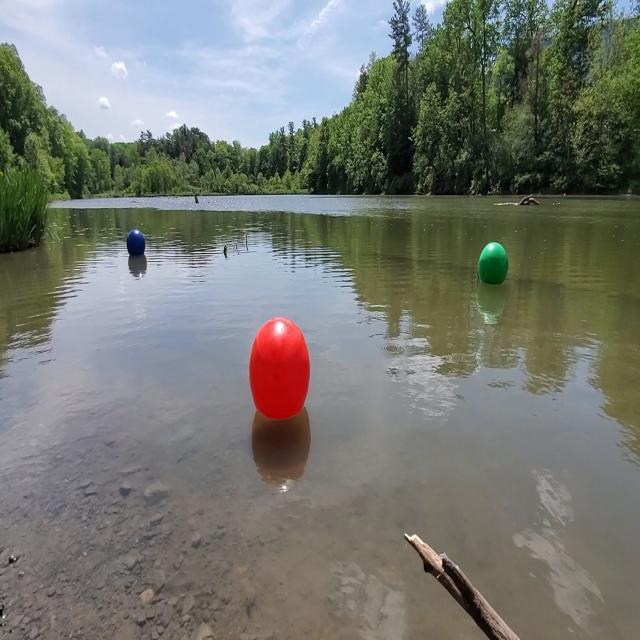buoy: (246, 313, 312, 423), (476, 240, 508, 290), (124, 225, 147, 260)
